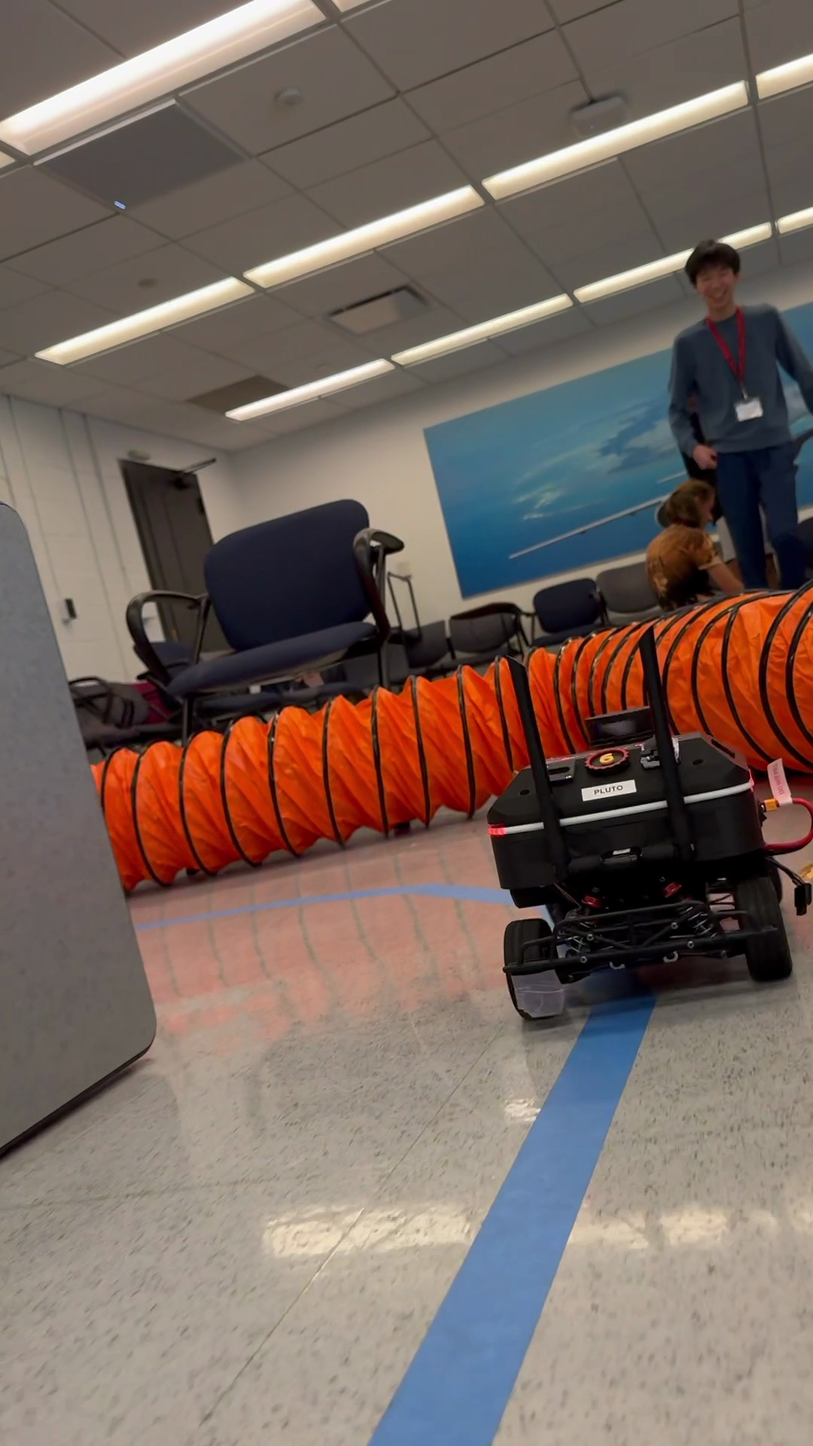racecar: (483, 629, 809, 1027)
